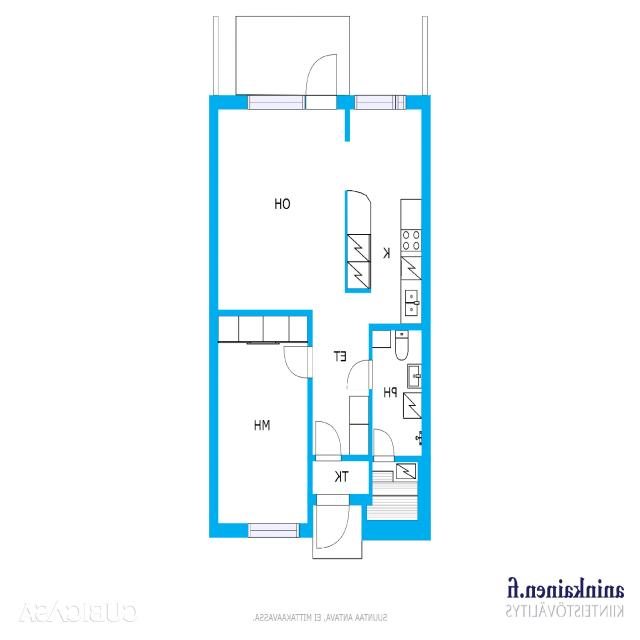door: (316, 494, 349, 549), (306, 54, 336, 109), (316, 422, 340, 461), (284, 346, 312, 378), (347, 360, 372, 389), (374, 429, 394, 462)
